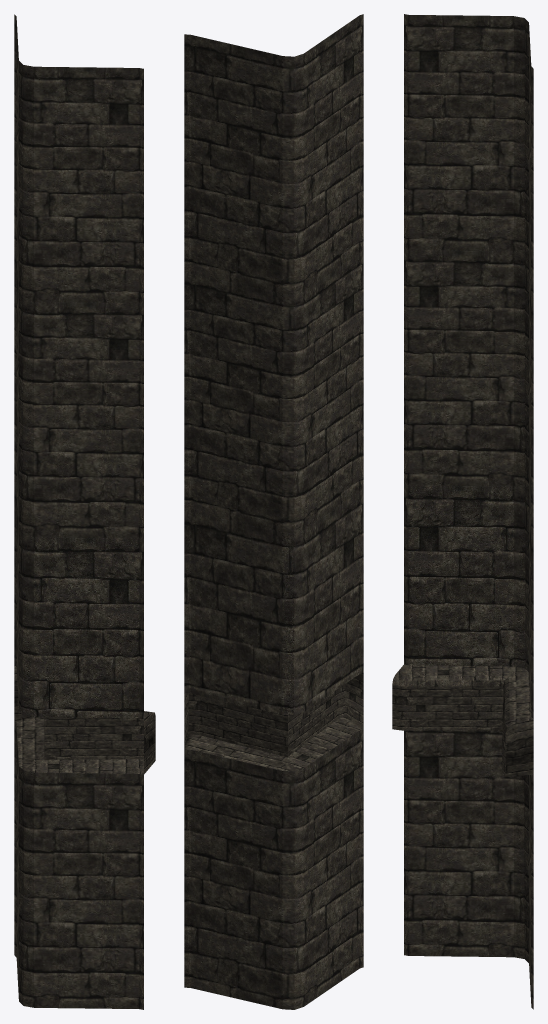
Rendered from wallBlockICS.fbx.
3 renders of one model, left to right at view 1: azimuth 90°, elevation 25°; view 2: azimuth 150°, elevation 25°; view 3: azimuth 270°, elevation 25°, orthographic.
Parts seen in each view (by area): view 1: polySurface75; view 2: polySurface75; view 3: polySurface75.
Boxes of the visible parts, x1,y1,x2,y2 form: polySurface75: [14, 14, 155, 1009]; polySurface75: [184, 14, 363, 1009]; polySurface75: [392, 14, 533, 1009].
Bounding box in the file's own units: 1.08 × 8 × 1.09.
1 material, 1 textured.
